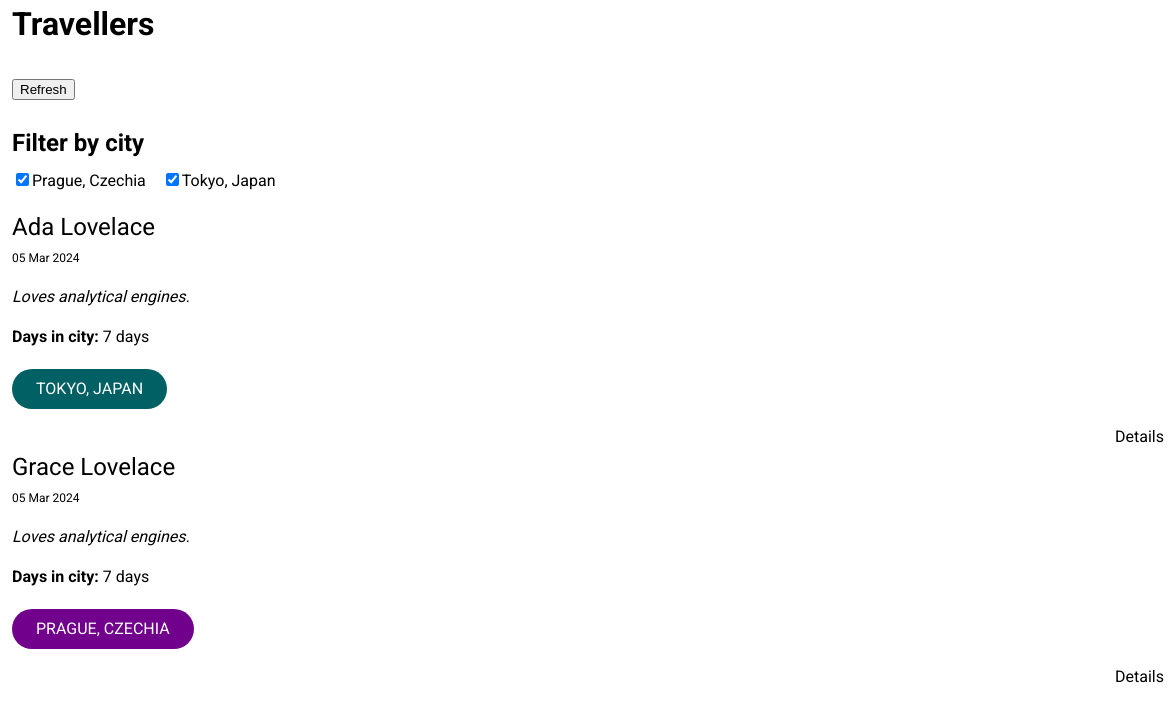
Test case: <TravellersList /> › City filter › says so when no city is ticked
Click the text "Tokyo, Japan". click: (229, 181)
box: [182,171,276,190]
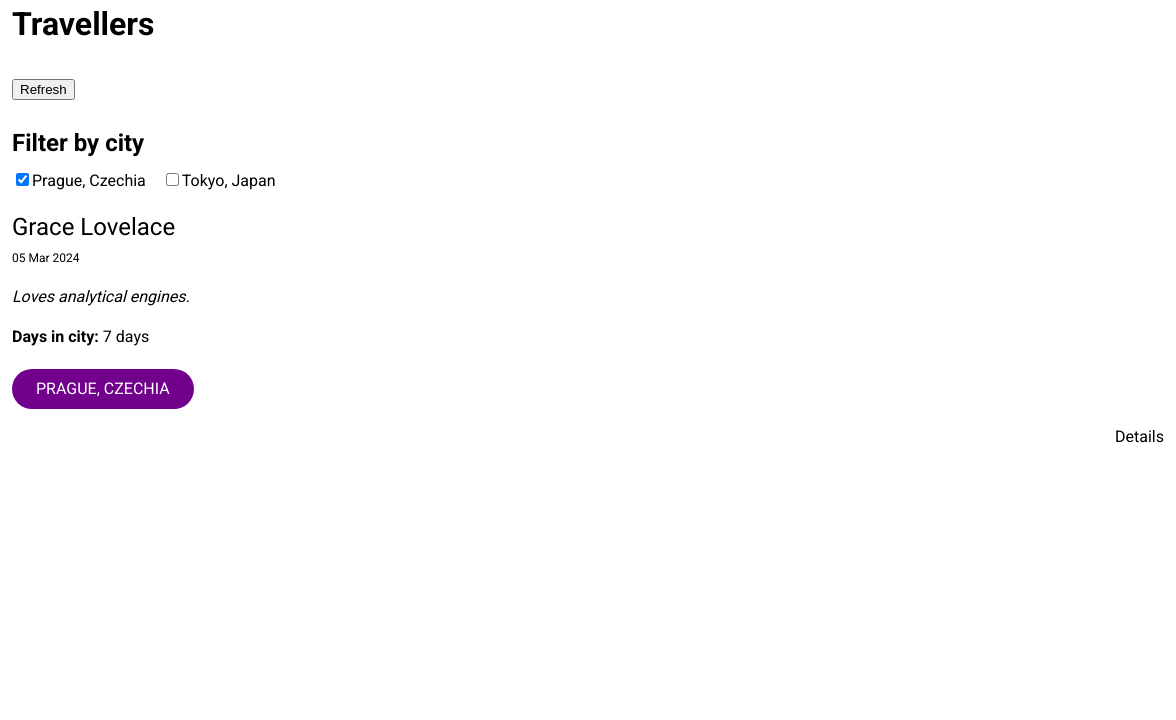
Click the text "Prague, Czechia". click: (89, 181)
box: [32,171,146,190]
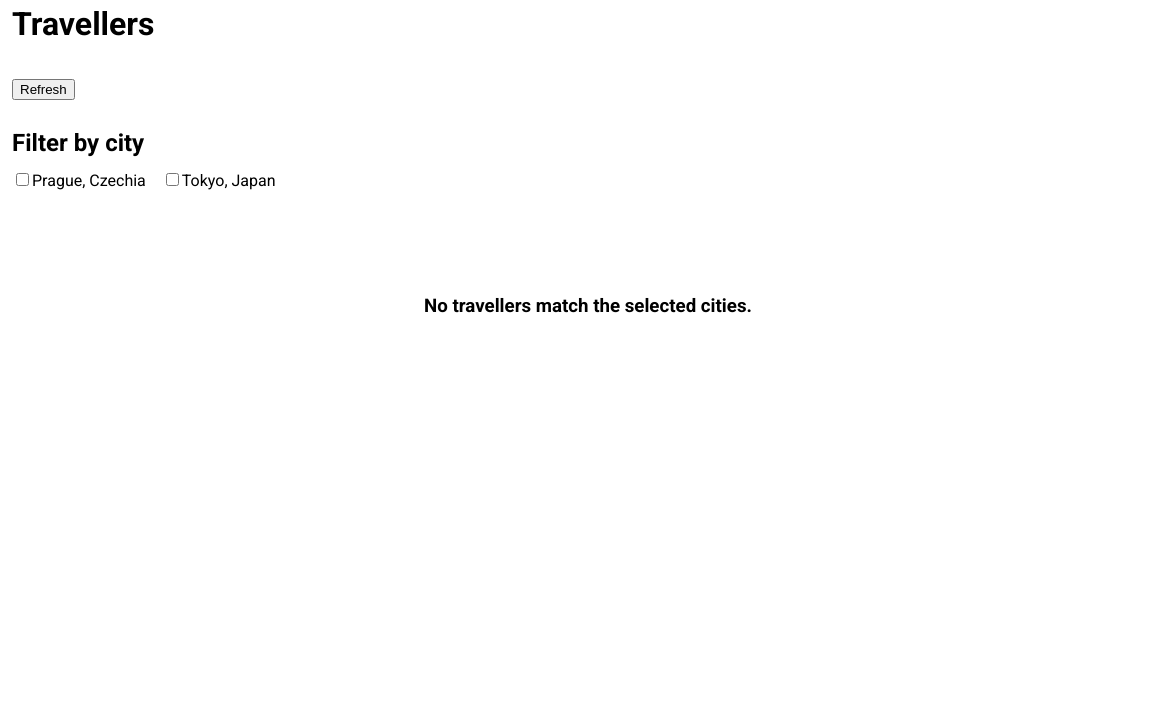
Check: the element showing "No travellers match the selected cities." is shown, box [424,295,752,317]
Check: the list with test id "travellers-list" is gone
